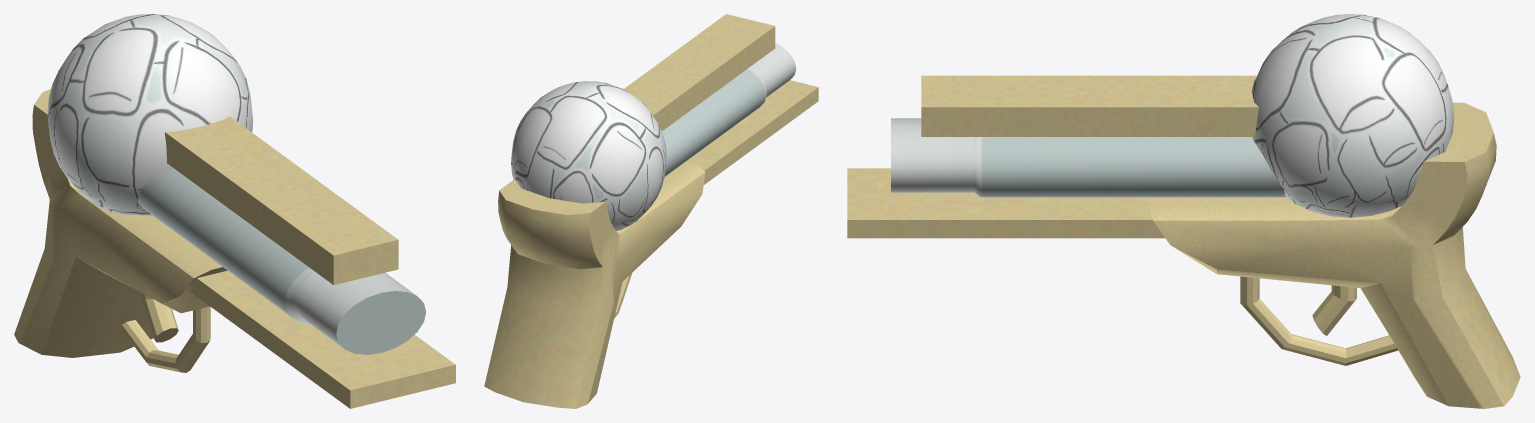
File: Gun UV.fbx
The picture shows the model from 3 angles, left to right: view 1: azimuth 30°, elevation 25°; view 2: azimuth 150°, elevation 25°; view 3: azimuth 270°, elevation 25°; orthographic projection. The views are drawn at different scales.
Visible parts, largest first — view 1: pSphere1, pCube3, pCube1, pCylinder1, pCube2, pTorus1, pTorus2; view 2: pCube3, pSphere1, pCube1, pCylinder1, pCube2; view 3: pCube3, pSphere1, pCylinder1, pCube1, pCube2, pTorus1, pTorus2.
Boxes of the visible parts, bbox=[...] form: pSphere1: bbox=[47, 14, 253, 215]; pCube3: bbox=[14, 89, 227, 357]; pCube1: bbox=[164, 116, 398, 284]; pCylinder1: bbox=[137, 168, 425, 354]; pCube2: bbox=[190, 270, 455, 408]; pTorus1: bbox=[121, 306, 210, 372]; pTorus2: bbox=[141, 293, 178, 342]; pCube3: bbox=[484, 161, 705, 408]; pSphere1: bbox=[511, 81, 666, 230]; pCube1: bbox=[624, 14, 775, 131]; pCylinder1: bbox=[662, 43, 796, 176]; pCube2: bbox=[687, 80, 818, 184]; pCube3: bbox=[1148, 102, 1520, 408]; pSphere1: bbox=[1251, 14, 1454, 217]; pCylinder1: bbox=[891, 118, 1285, 197]; pCube1: bbox=[921, 75, 1258, 136]; pCube2: bbox=[847, 168, 1164, 238]; pTorus1: bbox=[1240, 276, 1398, 365]; pTorus2: bbox=[1312, 285, 1356, 335].
Bounding box in the file's own units: 1.98 × 3.72 × 6.44.
Materials: 1 (1 with a texture image).
